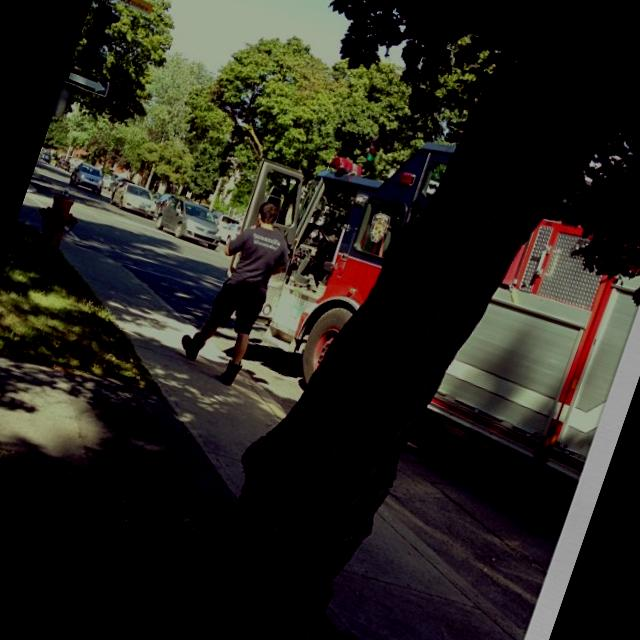Vehicle: (193, 83, 640, 492), (150, 190, 228, 252), (108, 177, 162, 220), (67, 160, 108, 196), (208, 210, 240, 247), (106, 173, 136, 199), (53, 156, 71, 172)
